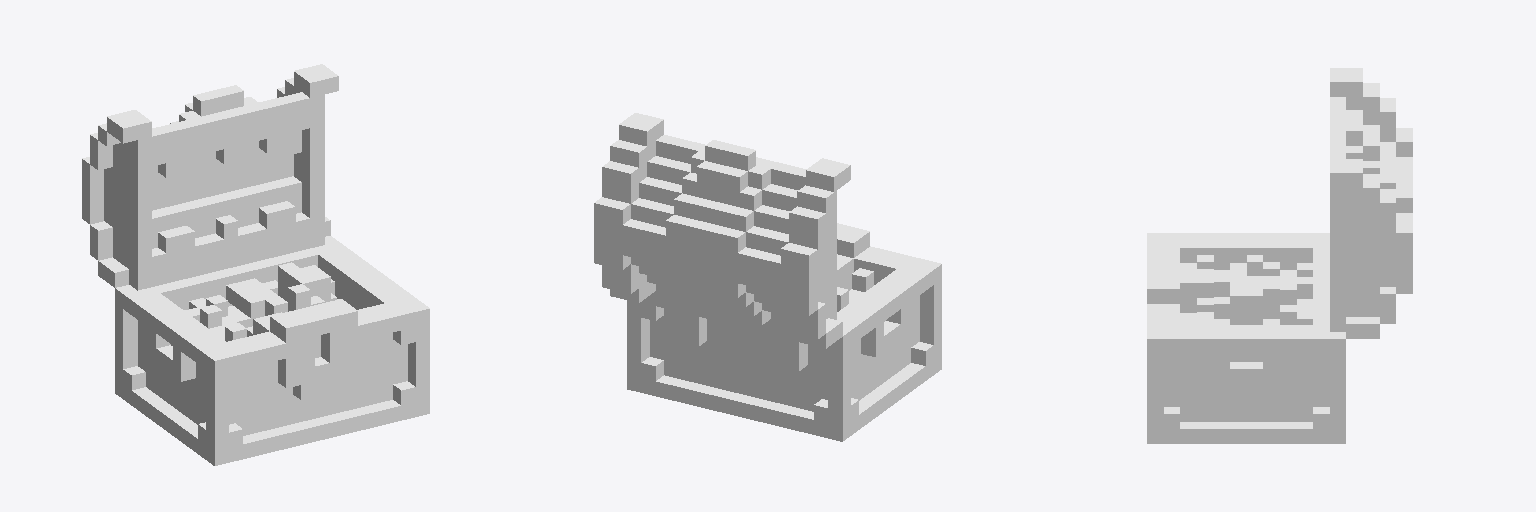
File: chest_open.obj
3 renders of one model, left to right at view 1: azimuth 30°, elevation 25°; view 2: azimuth 150°, elevation 25°; view 3: azimuth 270°, elevation 25°, orthographic.
Parts seen in each view (by area): view 1: object 1; view 2: object 1; view 3: object 1.
Boxes of the visible parts, x1=… form: object 1: x1=82, y1=64, x2=429, y2=465; object 1: x1=594, y1=113, x2=941, y2=441; object 1: x1=1147, y1=68, x2=1412, y2=443.
Bounding box in the file's own units: 1.5 × 1.8 × 1.6.